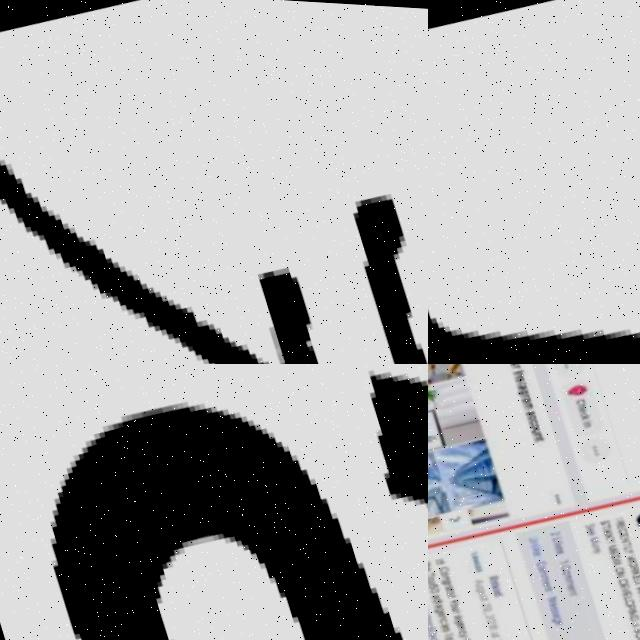0: (481, 611, 492, 620), (428, 581, 437, 590), (428, 623, 435, 632)
1: (556, 552, 566, 558), (483, 616, 493, 621)
2: (480, 606, 491, 616), (546, 523, 558, 532), (477, 596, 488, 605), (489, 638, 499, 640)
5: (428, 618, 433, 628), (428, 577, 434, 585)
6: (482, 618, 495, 628)
7: (0, 0, 428, 364), (488, 633, 498, 639)
9: (478, 599, 489, 608)
A: (0, 364, 428, 640), (608, 552, 620, 562), (518, 389, 529, 399), (469, 572, 480, 582), (627, 613, 638, 623), (514, 377, 525, 386), (449, 607, 459, 616), (523, 403, 532, 411), (485, 625, 494, 633), (428, 587, 436, 596), (548, 606, 557, 611), (440, 581, 449, 586), (633, 634, 640, 640), (428, 627, 432, 636), (431, 599, 438, 604), (458, 637, 467, 640), (428, 636, 434, 640)
C: (556, 558, 569, 567), (434, 560, 447, 569), (612, 520, 625, 529), (532, 553, 543, 563), (572, 390, 583, 399), (524, 408, 535, 417), (525, 412, 536, 421), (631, 628, 640, 637), (577, 404, 586, 412), (435, 613, 444, 619), (455, 624, 462, 630)
D: (605, 546, 619, 555), (628, 570, 640, 579), (489, 584, 500, 593), (614, 570, 625, 579), (428, 591, 439, 598), (428, 632, 435, 638)
E: (614, 524, 626, 534), (432, 605, 442, 614), (627, 567, 639, 574), (604, 542, 616, 549), (563, 576, 572, 585), (529, 544, 539, 552), (615, 575, 626, 582), (583, 523, 592, 531), (550, 613, 559, 621), (488, 581, 497, 589), (452, 616, 461, 624), (617, 584, 629, 590), (575, 401, 585, 407), (613, 517, 623, 523), (551, 539, 560, 545), (538, 575, 547, 581), (545, 596, 554, 602), (436, 619, 445, 625), (582, 521, 591, 526), (589, 542, 598, 547), (637, 600, 640, 606)
G: (514, 381, 527, 391), (545, 608, 558, 618), (624, 606, 637, 616), (447, 612, 460, 621), (429, 601, 442, 610), (470, 581, 482, 588), (437, 573, 446, 581)
H: (574, 397, 585, 404), (633, 589, 640, 598), (458, 633, 467, 638)
I: (550, 533, 560, 539), (528, 539, 538, 545), (580, 413, 590, 418), (610, 509, 620, 514), (608, 551, 618, 556), (623, 601, 633, 606), (510, 364, 522, 368), (633, 633, 640, 639), (437, 616, 445, 621), (632, 583, 640, 588), (441, 629, 449, 633), (599, 520, 607, 524)
J: (428, 119, 640, 364), (635, 596, 640, 603)
K: (600, 525, 611, 535), (626, 562, 637, 571), (579, 407, 589, 414), (551, 535, 561, 542), (529, 542, 539, 548), (487, 578, 497, 584), (599, 523, 609, 529)
L: (619, 588, 629, 595), (549, 530, 559, 536), (619, 538, 629, 544), (527, 538, 537, 543), (440, 628, 448, 632)
M: (543, 589, 555, 599), (604, 536, 615, 546), (584, 529, 596, 538), (521, 396, 530, 404), (560, 567, 569, 575), (537, 569, 546, 577), (562, 572, 570, 580), (536, 564, 543, 571)
N: (616, 528, 627, 538), (624, 602, 635, 612), (510, 365, 521, 374), (612, 564, 623, 573), (563, 580, 572, 589), (531, 426, 540, 434), (539, 578, 548, 584), (487, 574, 494, 581), (581, 415, 588, 421), (527, 535, 534, 541), (435, 610, 442, 616), (438, 570, 445, 575), (454, 622, 461, 627)
O: (609, 558, 622, 568), (619, 590, 632, 600), (526, 416, 538, 426), (629, 623, 640, 633), (624, 553, 636, 562), (558, 562, 567, 570), (437, 565, 444, 573), (447, 596, 454, 604), (588, 535, 595, 542), (535, 560, 542, 565), (428, 571, 430, 576)
P: (620, 595, 634, 605), (428, 574, 431, 583)
R: (484, 569, 495, 578), (611, 512, 622, 521), (625, 557, 636, 566), (517, 387, 527, 393), (449, 605, 455, 610), (589, 540, 595, 544), (441, 579, 447, 583)
S: (579, 515, 592, 524), (512, 370, 523, 379), (596, 511, 607, 520), (629, 619, 640, 628), (551, 543, 560, 549), (546, 599, 555, 605), (547, 603, 556, 608), (474, 590, 483, 595), (442, 586, 451, 591), (438, 622, 445, 628), (440, 632, 448, 637)
T: (617, 533, 628, 542), (515, 374, 525, 381), (540, 581, 550, 587), (634, 584, 640, 594), (598, 517, 608, 523), (532, 432, 542, 437), (475, 592, 485, 597), (486, 630, 496, 635), (565, 585, 574, 590), (442, 583, 451, 588), (443, 634, 451, 639), (428, 566, 431, 575)
U: (524, 528, 536, 538), (529, 421, 538, 429), (471, 577, 478, 584), (474, 585, 481, 592), (447, 601, 456, 606)
V: (617, 578, 628, 588)
W: (630, 576, 640, 587), (621, 547, 633, 556)
Y: (600, 530, 614, 540), (620, 540, 631, 550), (446, 592, 455, 601), (452, 629, 464, 635)
